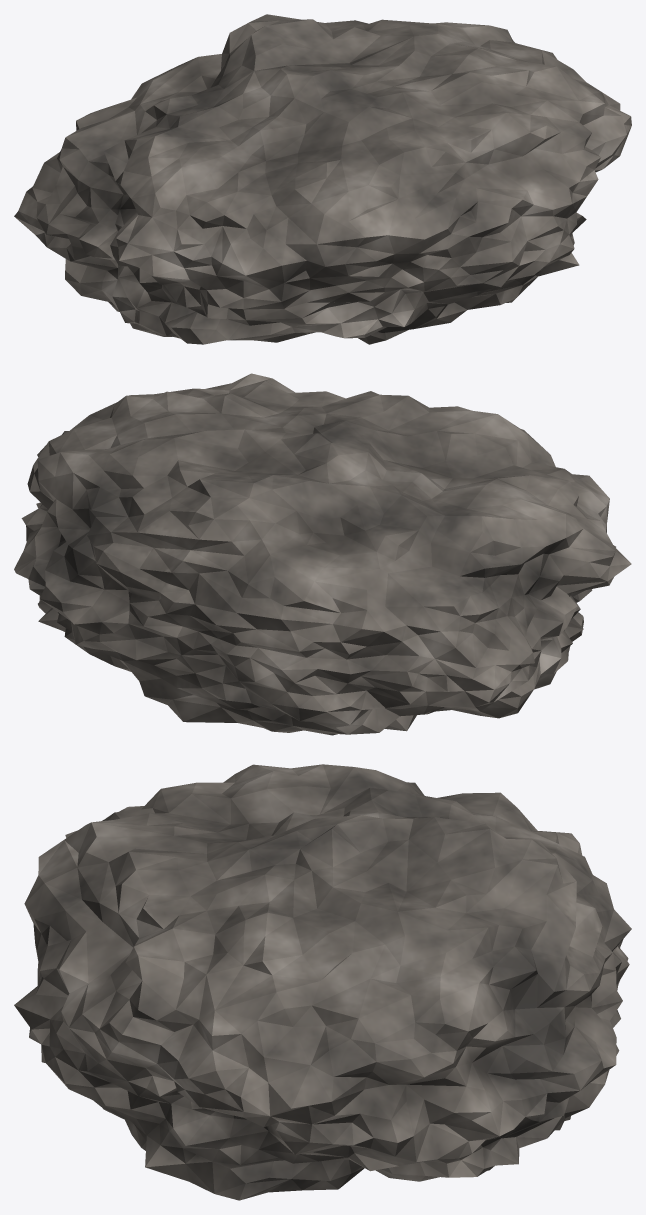
Rendered from Asteroide2.fbx.
3 renders of one model, top to bottom at view 1: azimuth 30°, elevation 25°; view 2: azimuth 150°, elevation 25°; view 3: azimuth 270°, elevation 25°, orthographic. The views are drawn at different scales.
Visible parts, largest first — view 1: Asteroide2; view 2: Asteroide2; view 3: Asteroide2.
Part boxes in pixels (box(x1,y1,x2,y2)): Asteroide2: box(14, 14, 631, 344); Asteroide2: box(14, 373, 631, 735); Asteroide2: box(14, 764, 631, 1200).
Bounding box in the file's own units: 186 × 81.02 × 149.
